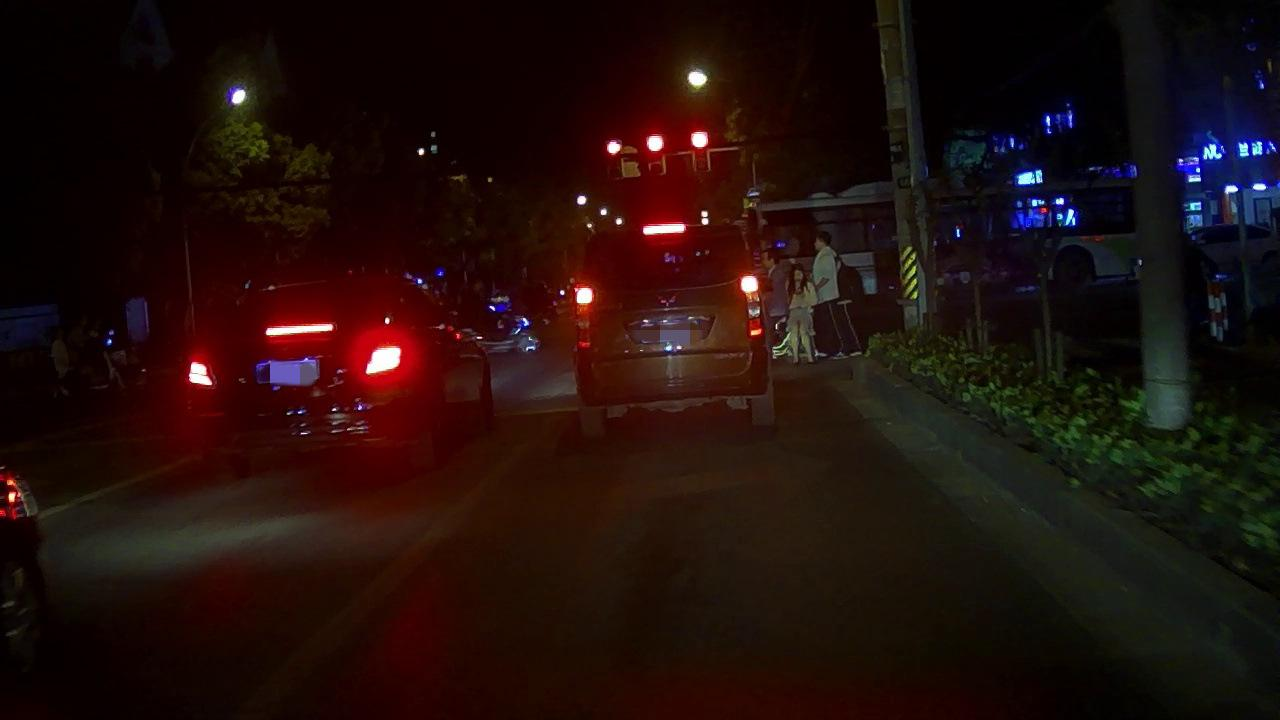traffic_light: (691, 126, 709, 171), (604, 138, 621, 177), (647, 132, 663, 173)
